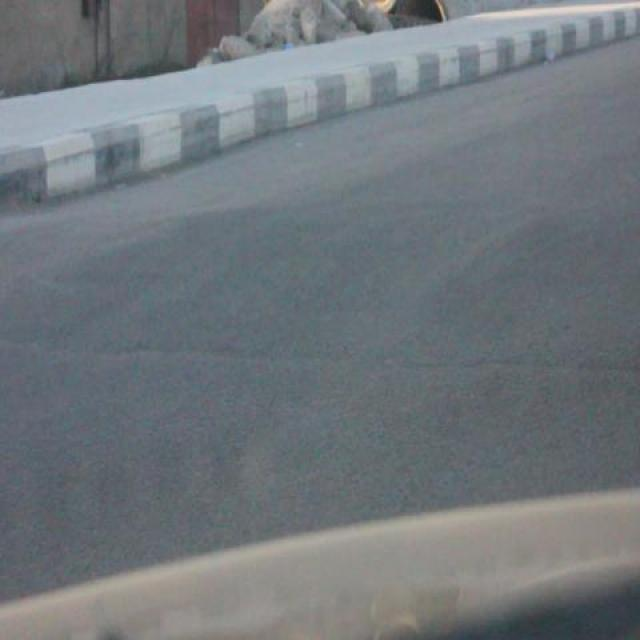Unmarked Bump: (1, 188, 639, 374)
